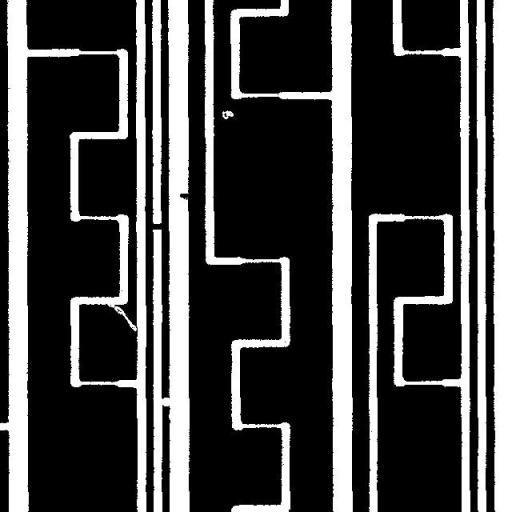open: (100, 296, 144, 338), (154, 390, 178, 414)
pin-hole: (214, 102, 241, 126)
short: (142, 214, 173, 237)
spur: (172, 186, 198, 207)
